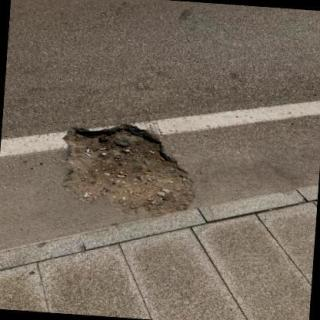pothole: (62, 125, 195, 216)
